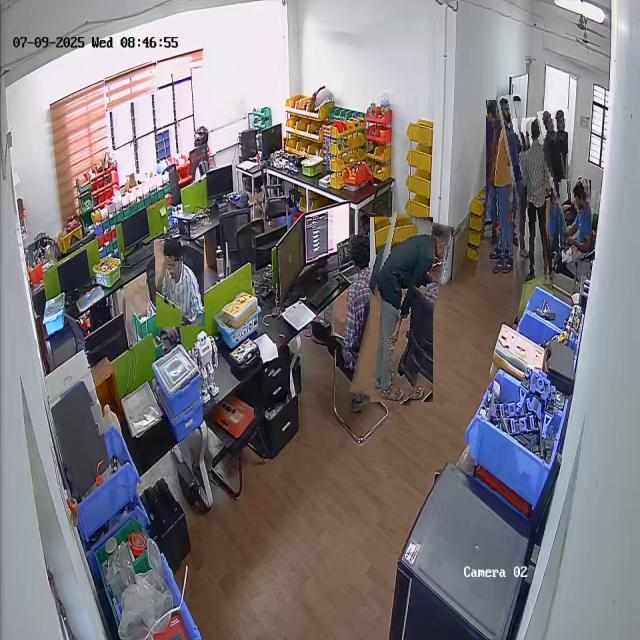person: (359, 215, 444, 404), (318, 235, 378, 398), (481, 100, 518, 282), (518, 118, 555, 284), (503, 94, 534, 247), (543, 109, 575, 253), (155, 239, 205, 328), (560, 180, 593, 263)
